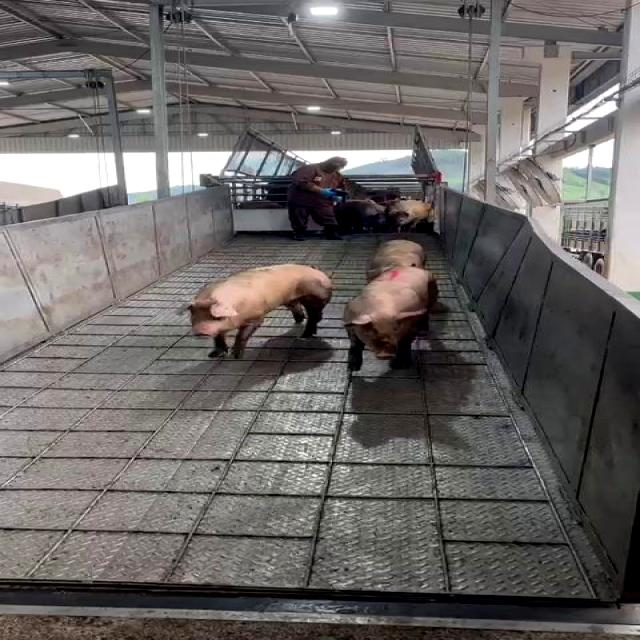pig: (187, 264, 331, 357), (344, 268, 436, 368), (365, 241, 425, 280)
